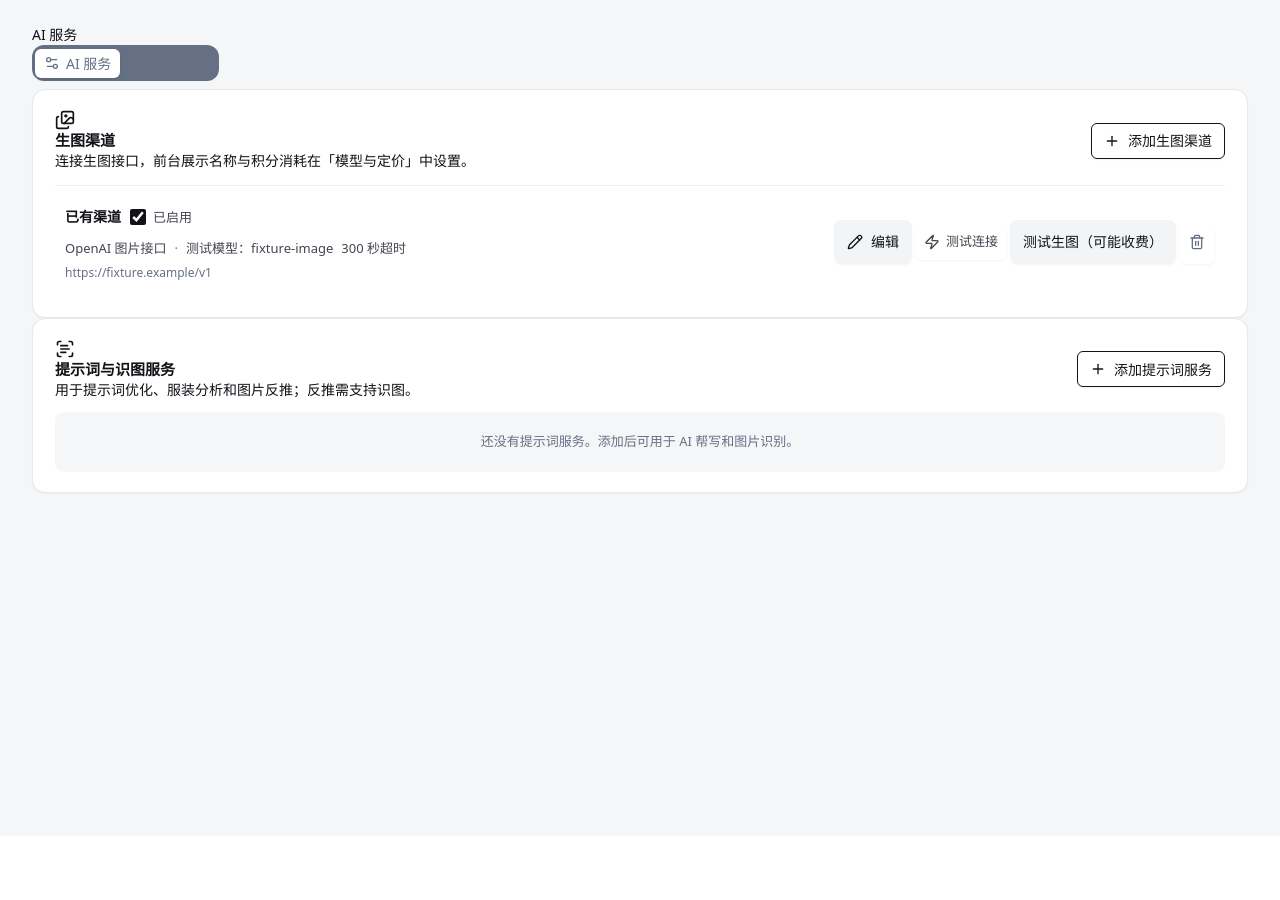
Scenario: distinguishes connection testing from paid image generation and shows local failures
The width and height of the screenshot is (1280, 900).
Click the button "测试连接" at (961, 242), box [915,224,1007,260]
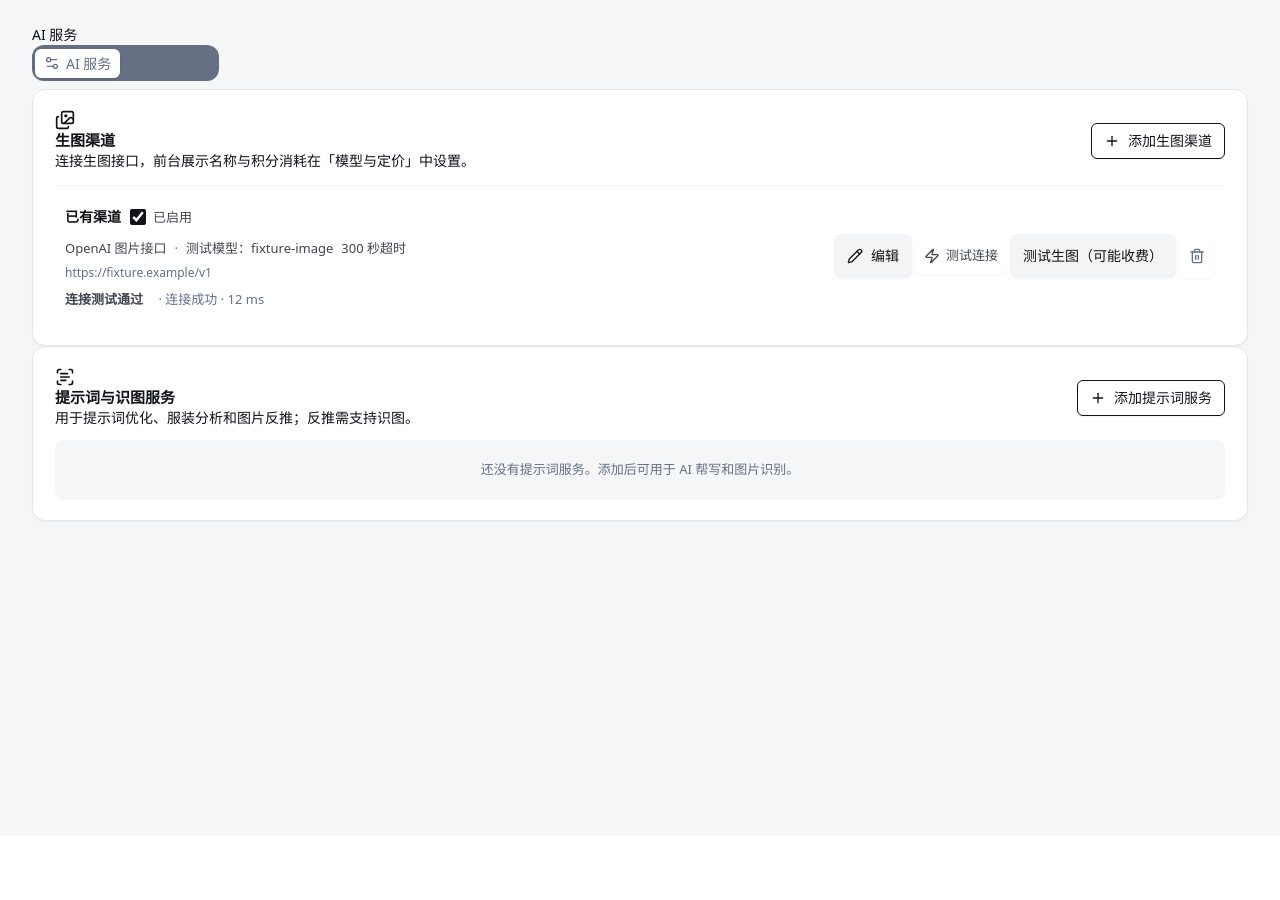
Expected: the text "连接测试通过" is shown, [65,290,143,308]
Click the button "测试生图（可能收费）" at (1093, 256), box [1010,234,1176,278]
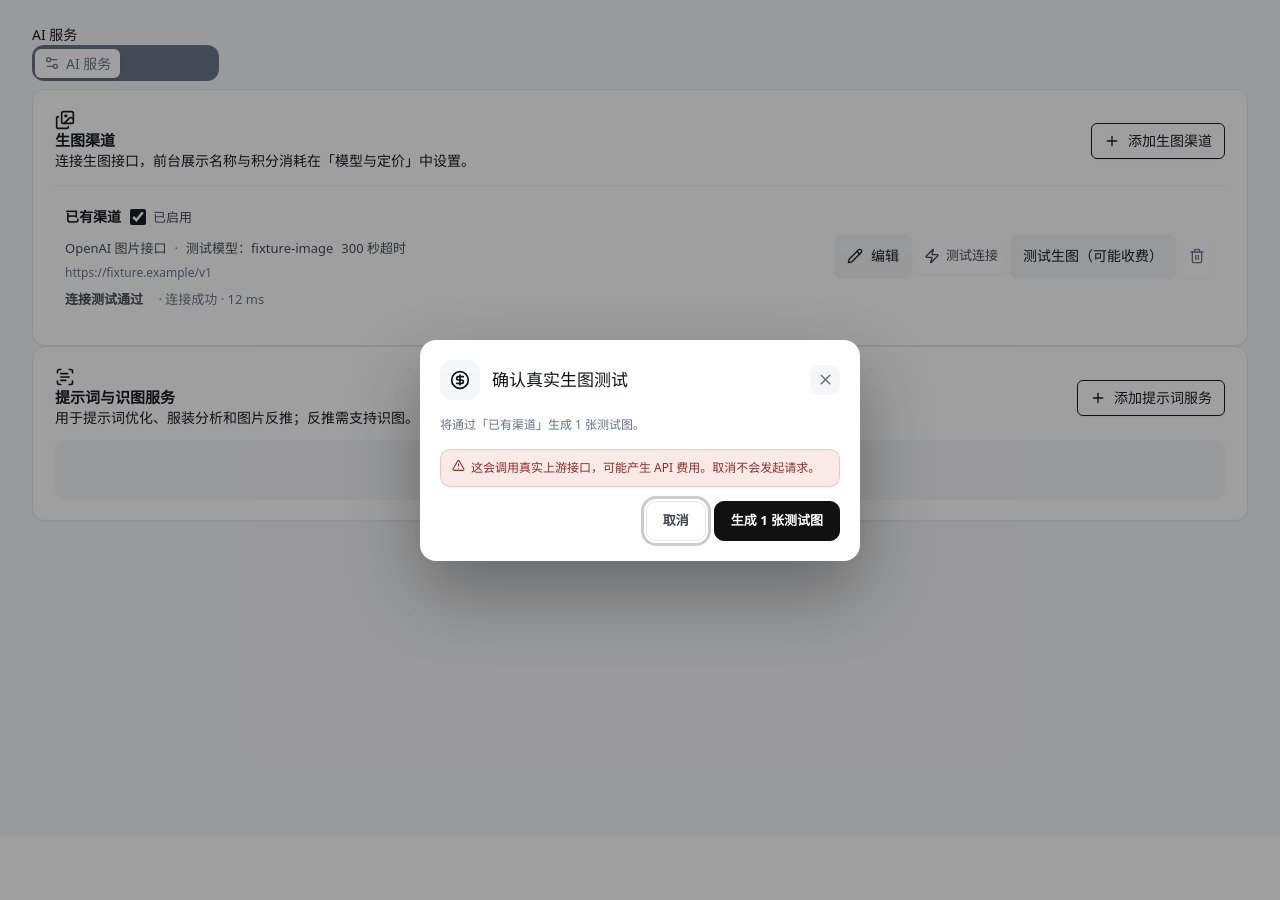
Expected: the dialog shows "确认真实生图测试", [492,368,628,391]
Click the button "取消" at (676, 520), box [646,500,706,540]
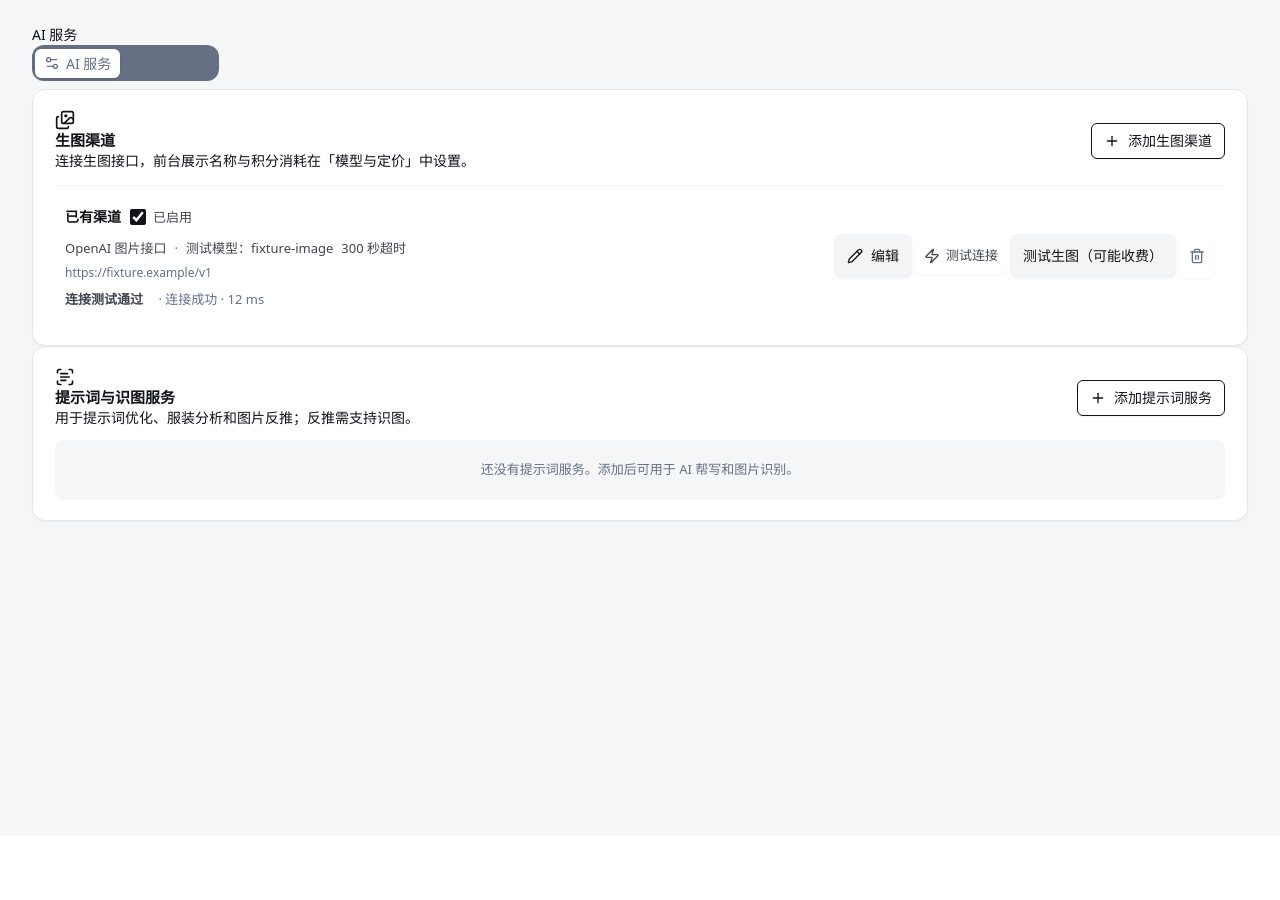
Click the button "测试连接" at (961, 256), box [915,238,1007,274]
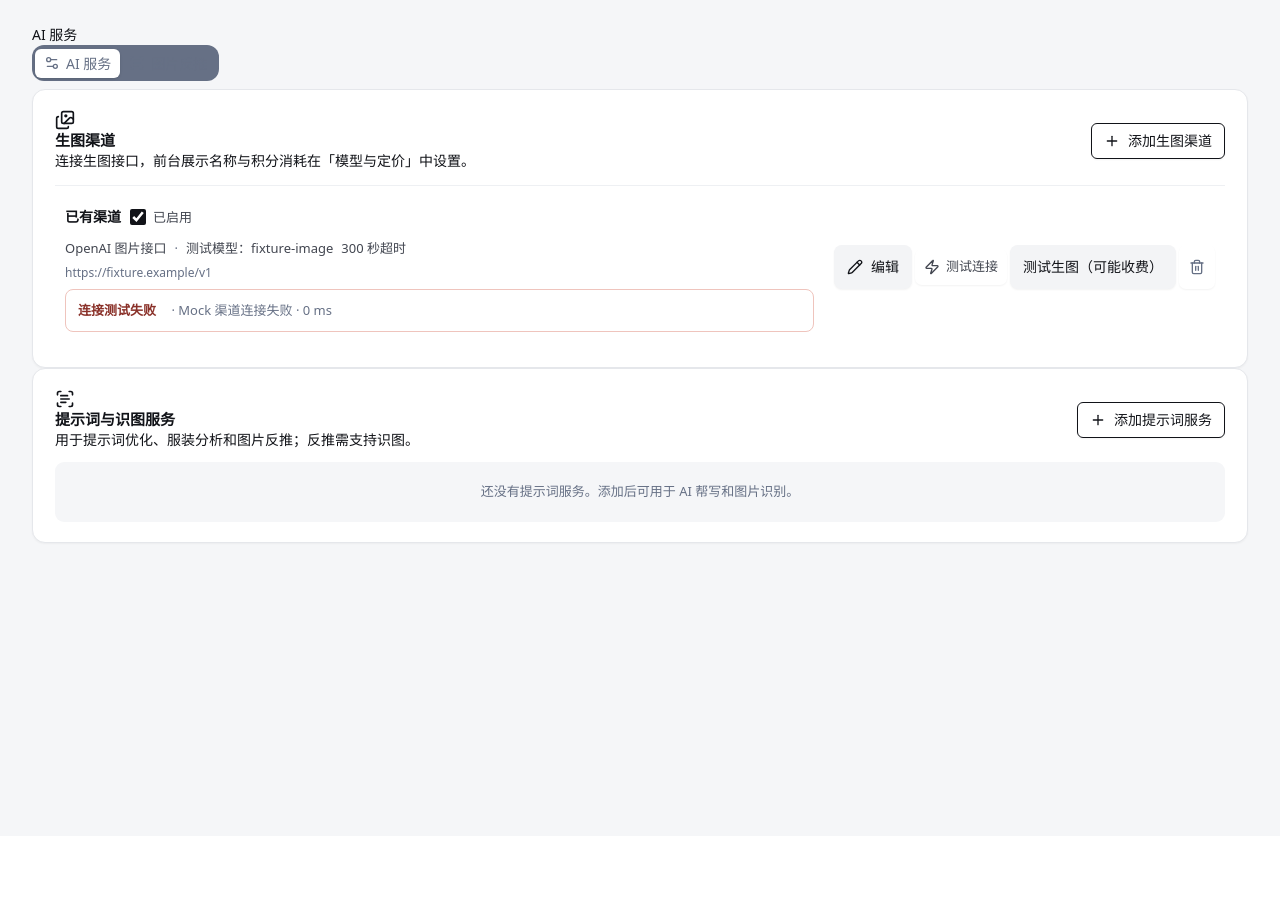
Expected: the element with class "endpoint-row" shows "Mock 渠道连接失败", [178,301,292,319]
